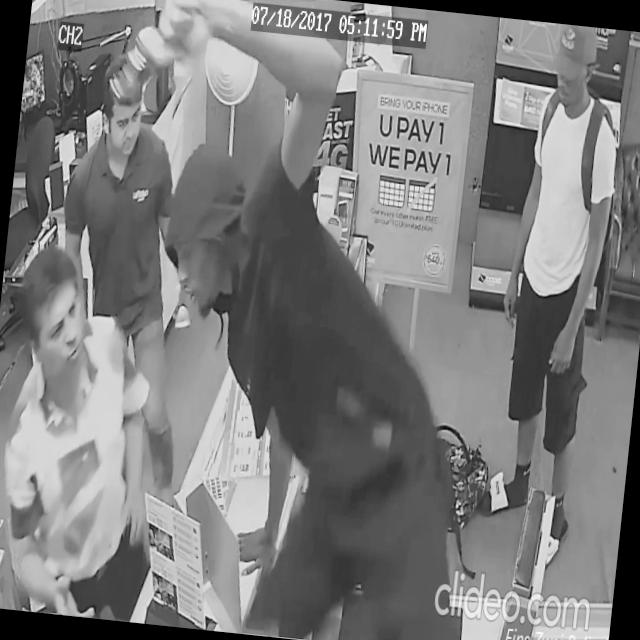gun: (108, 15, 184, 106)
person: (79, 0, 517, 640), (32, 48, 225, 520), (0, 235, 187, 623)
person with a gun: (52, 0, 518, 640)
